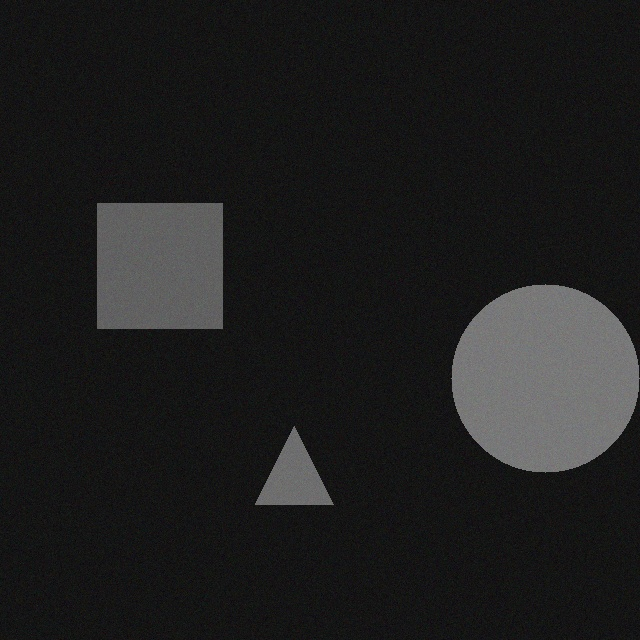circle: (436, 271, 624, 459)
square: (82, 190, 207, 315)
triangle: (240, 413, 318, 491)
